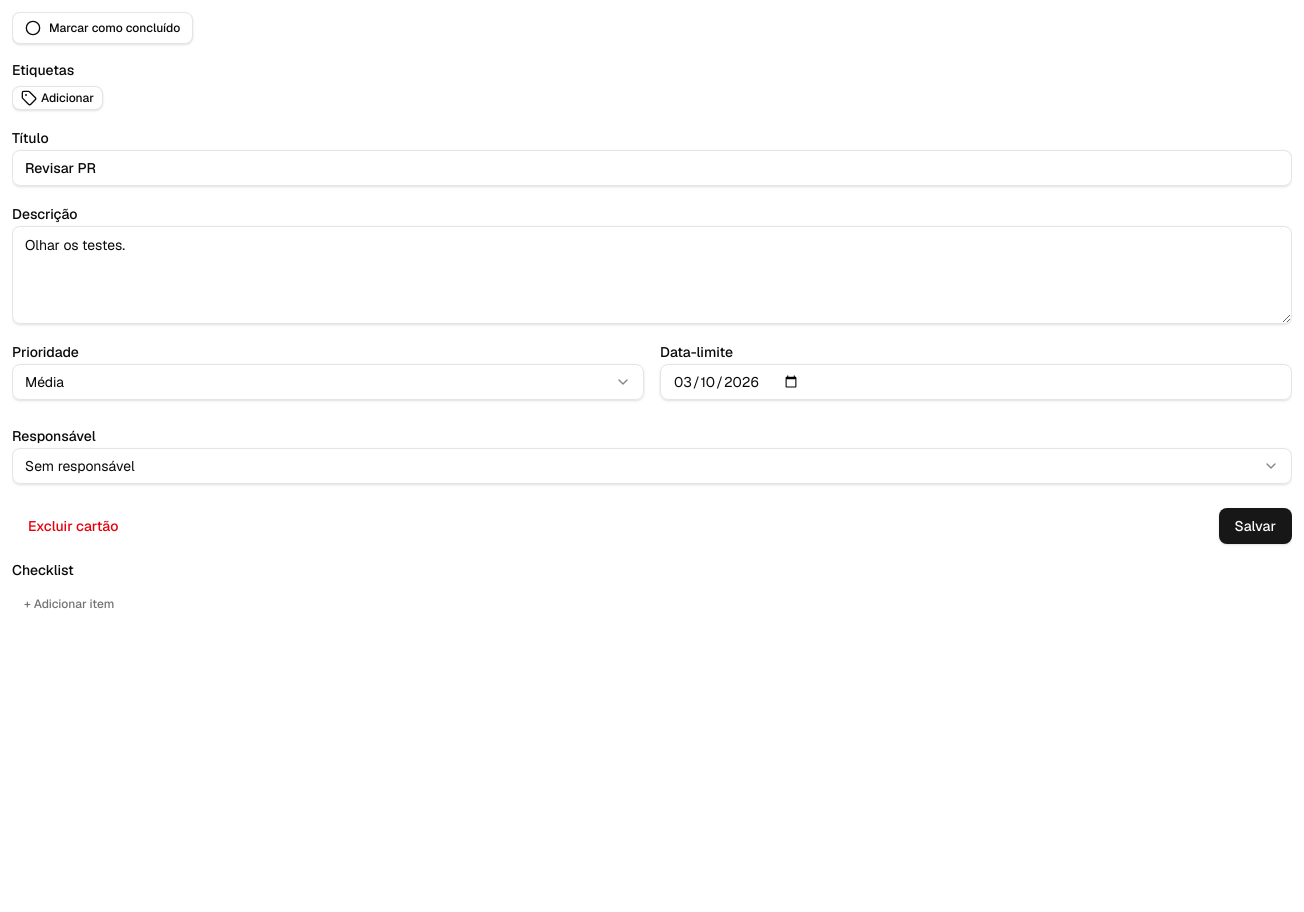
CardDetailContent › mostra a mensagem do servidor quando falha ao salvar
Expected: the field labelled "Título" is shown, x1=12 y1=150 x2=1292 y2=186
Click the button "Salvar". click: x=1255, y=526
box: x1=1218 y1=508 x2=1292 y2=544
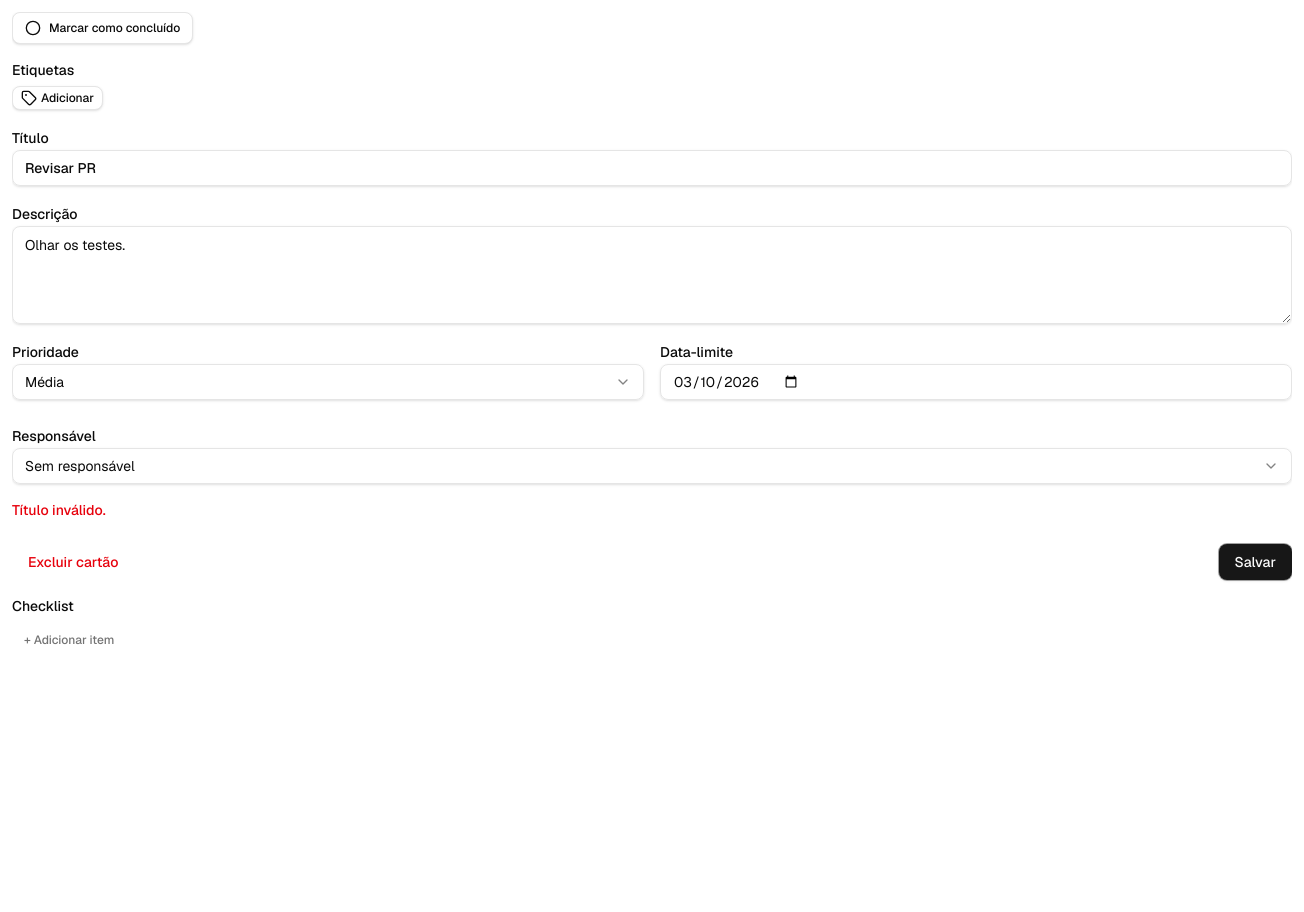
Expected: the text "Título inválido." is shown, x1=12 y1=501 x2=106 y2=519
